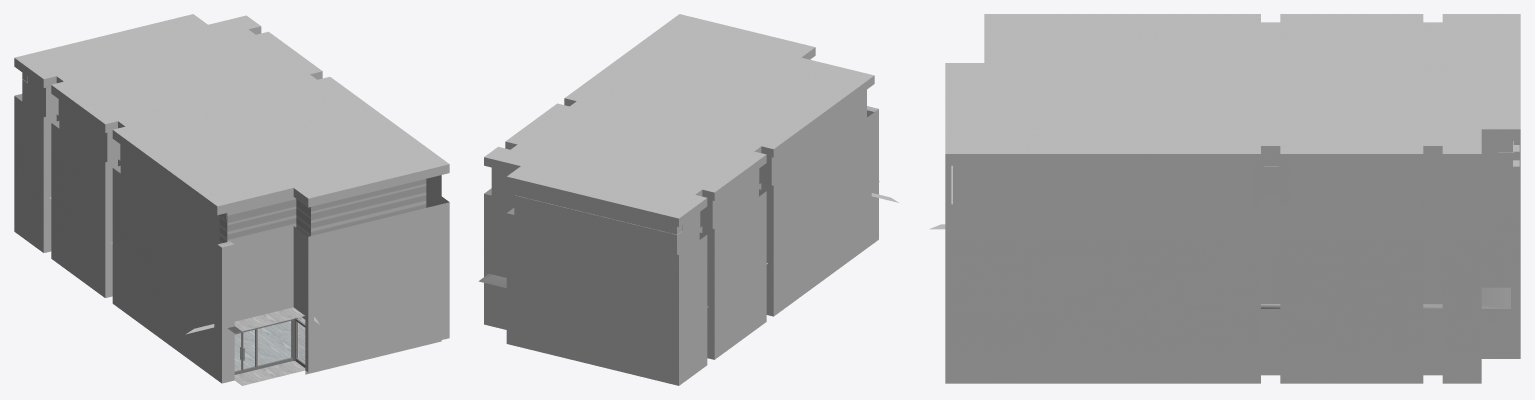
The model's file is VirtualShop.FBX.
The picture shows the model from 3 angles, left to right: view 1: azimuth 30°, elevation 25°; view 2: azimuth 150°, elevation 25°; view 3: azimuth 270°, elevation 25°; orthographic projection. The views are drawn at different scales.
Parts seen in each view (by area): view 1: Roof, Wall_Exterior, Wall_Exterior001, Wall_Up_F, Floor001, Wall_C, Wall_Up_G, Wall_I, Doors001, Floor, Wall_J, Wall_A; view 2: Roof, Wall_Exterior, Wall_Exterior001, Wall_K, Wall_C, Wall_I, Wall_J, Wall_L; view 3: Roof, Wall_Exterior, Wall_Exterior001, Wall_A, Wall_M, Wall_L, Wall_Pylon_C, Wall_Pylon_D, Roof001.
Part boxes in pixels (x1=…): Roof: x1=14, y1=14, x2=449, y2=215; Wall_Exterior: x1=14, y1=121, x2=449, y2=383; Wall_Exterior001: x1=14, y1=94, x2=449, y2=357; Wall_Up_F: x1=311, y1=179, x2=426, y2=235; Floor001: x1=234, y1=317, x2=305, y2=385; Wall_C: x1=120, y1=145, x2=219, y2=244; Wall_Up_G: x1=227, y1=197, x2=310, y2=241; Wall_I: x1=59, y1=100, x2=107, y2=162; Doors001: x1=234, y1=318, x2=305, y2=374; Floor: x1=234, y1=307, x2=304, y2=331; Wall_J: x1=22, y1=72, x2=45, y2=116; Wall_A: x1=426, y1=175, x2=441, y2=207; Roof: x1=484, y1=14, x2=874, y2=226; Wall_Exterior: x1=484, y1=133, x2=878, y2=385; Wall_Exterior001: x1=484, y1=106, x2=878, y2=361; Wall_K: x1=514, y1=187, x2=676, y2=254; Wall_C: x1=771, y1=90, x2=866, y2=185; Wall_I: x1=712, y1=169, x2=758, y2=228; Wall_J: x1=677, y1=212, x2=699, y2=254; Wall_L: x1=491, y1=167, x2=514, y2=200; Roof: x1=945, y1=14, x2=1520, y2=165; Wall_Exterior: x1=945, y1=141, x2=1520, y2=383; Wall_Exterior001: x1=945, y1=141, x2=1520, y2=350; Wall_A: x1=953, y1=165, x2=1252, y2=204; Wall_M: x1=1288, y1=165, x2=1473, y2=204; Wall_L: x1=1474, y1=141, x2=1512, y2=204; Wall_Pylon_C: x1=1415, y1=157, x2=1450, y2=204; Wall_Pylon_D: x1=1253, y1=157, x2=1288, y2=204; Roof001: x1=1261, y1=287, x2=1510, y2=308.
Size of the model in its own units: 919 by 634 by 1448.
